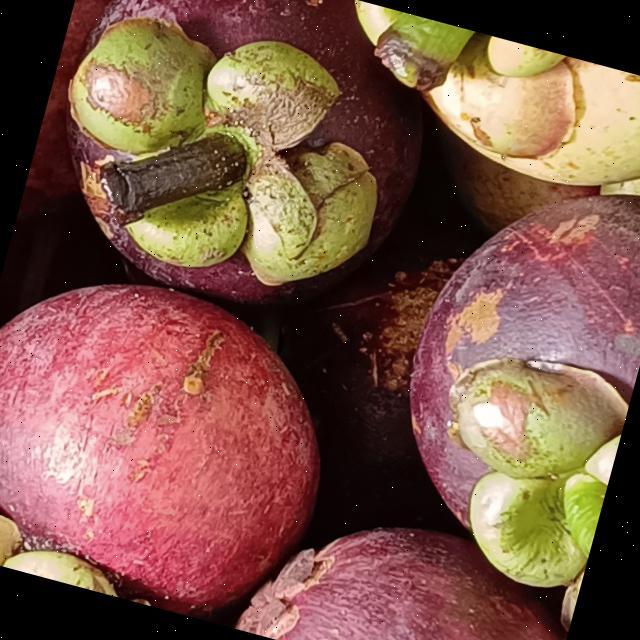mangosteen: (9, 0, 470, 351), (340, 131, 640, 640), (0, 237, 374, 640), (302, 0, 640, 224)
